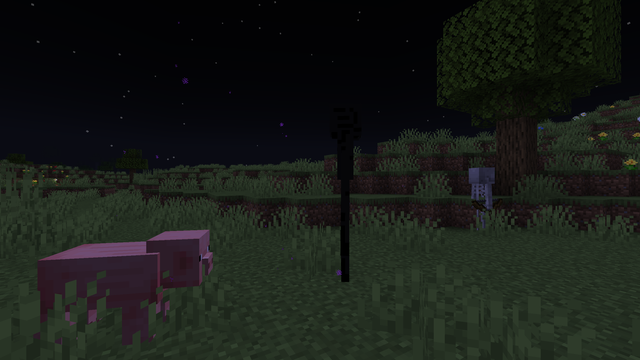cochons: (41, 234, 166, 355)
endermens: (320, 95, 370, 287)
squelettes: (466, 167, 496, 233)
